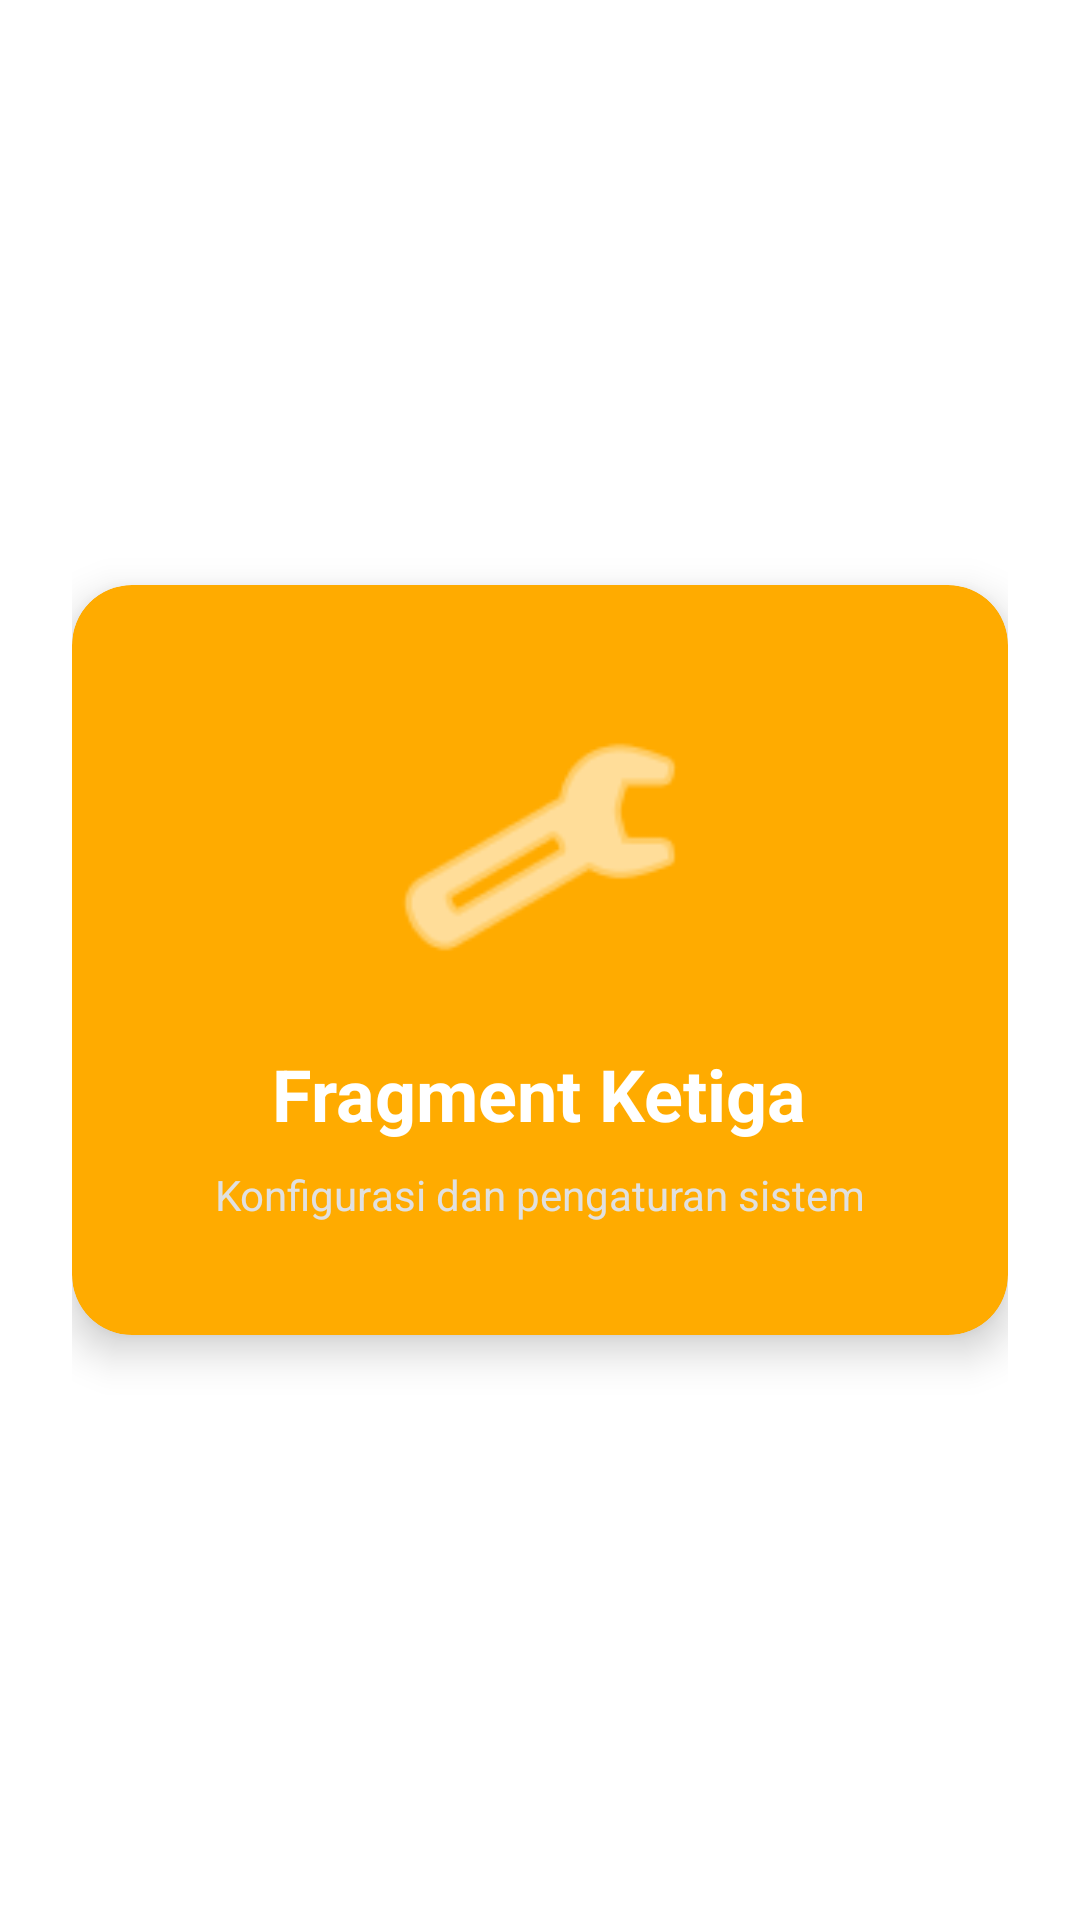

Locate icon controls on the screen. Image size 1080*1920, boxes as region(x1, y1, x2, y2).
manage: region(404, 743, 675, 951)
